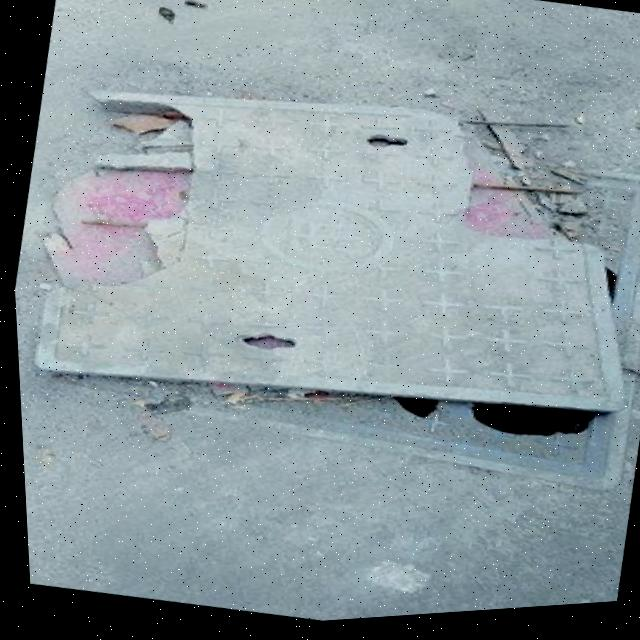manhole: (3, 47, 640, 534)
